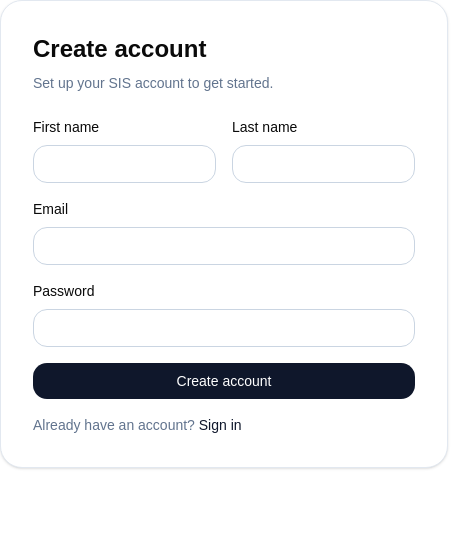
Test case: RegisterPage — validation › shows first name required error when submitted blank
The width and height of the screenshot is (465, 558).
Step 1. Click the button "Create account" → (224, 381), box 33,363 -> 415,399
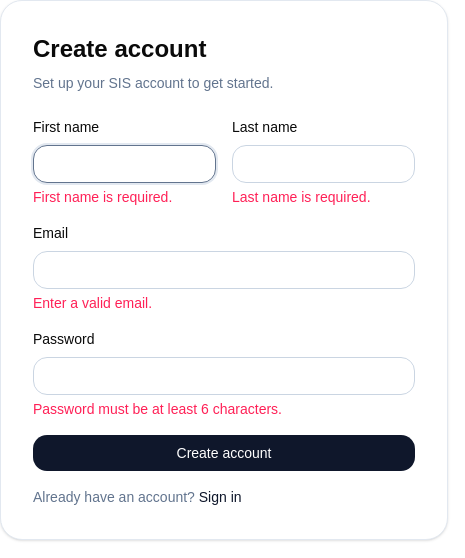
Check: the text "First name is required." is shown, box 33,189 -> 172,205
